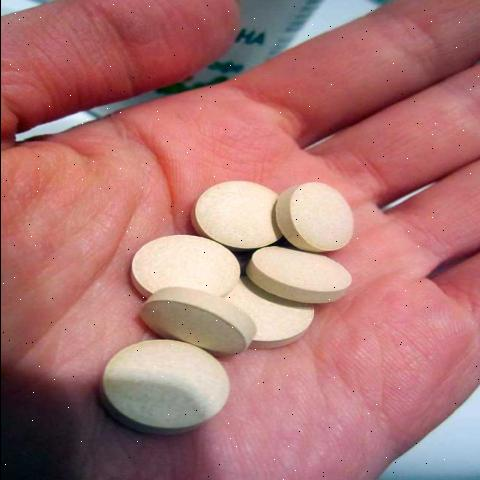Pill: (96, 337, 230, 445), (270, 172, 372, 258), (118, 232, 244, 298), (133, 286, 251, 354), (246, 246, 367, 304)
